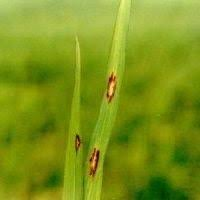Busuk Leher: (103, 70, 118, 105), (86, 147, 101, 179), (70, 131, 82, 156)
